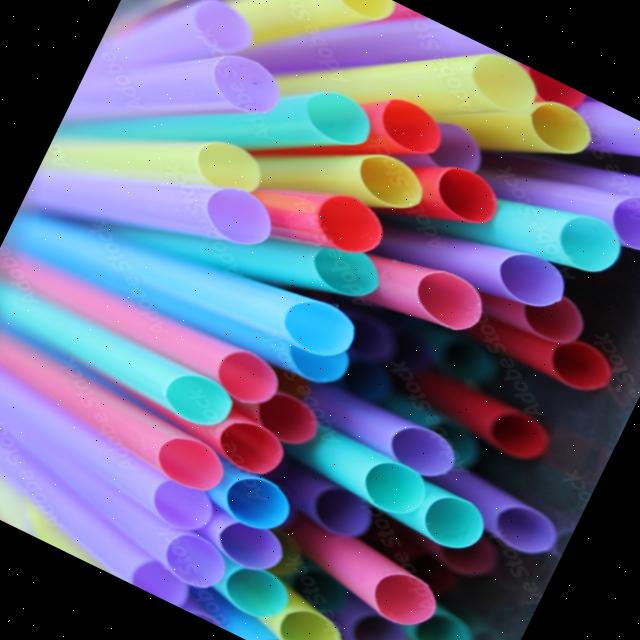plastic: (0, 265, 269, 452)
